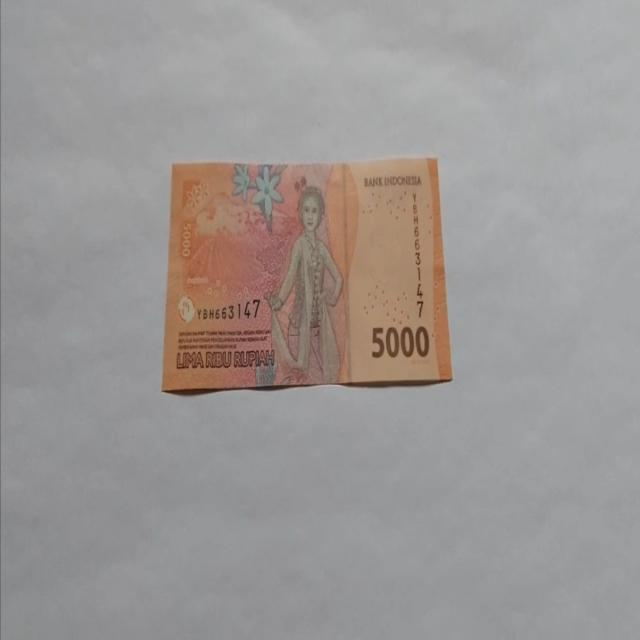lima ribu rupiah: (161, 155, 453, 393), (263, 184, 344, 384)
